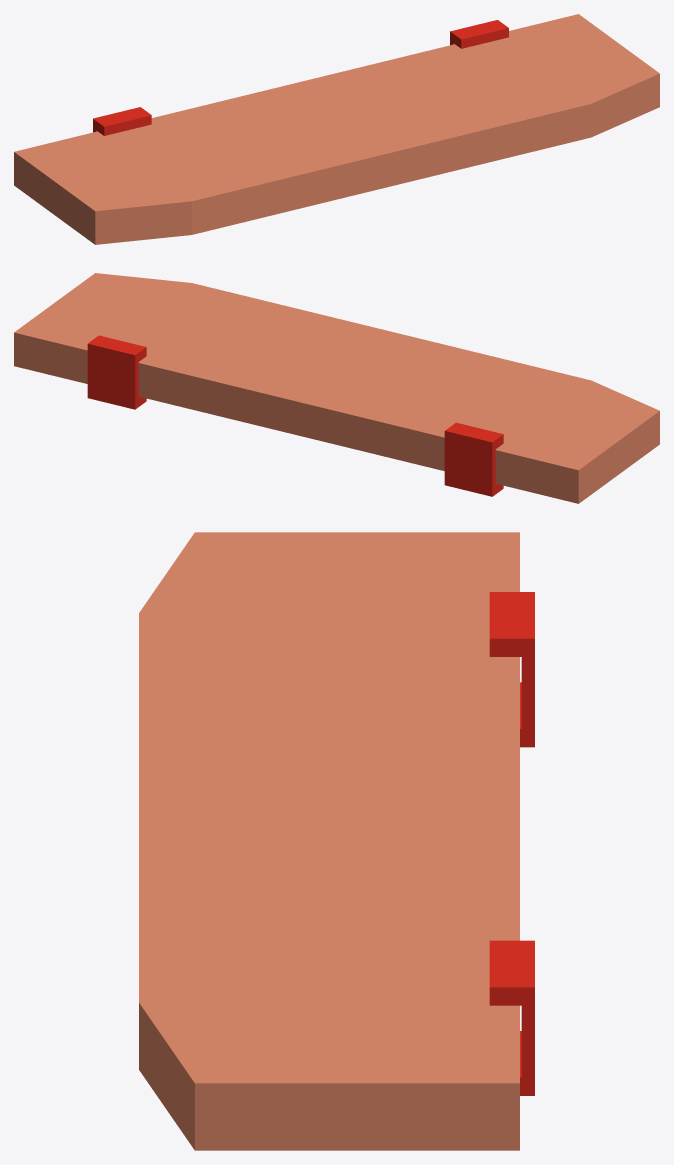
File: Slab.fbx
3 views of the same model, one above another, from view 1: azimuth 30°, elevation 25°; view 2: azimuth 150°, elevation 25°; view 3: azimuth 270°, elevation 25° (orthographic). The views are drawn at different scales.
Parts seen in each view (by area): view 1: Cube.002; view 2: Cube.002; view 3: Cube.002.
Boxes of the visible parts, x1=… form: Cube.002: x1=14, y1=14, x2=659, y2=244; Cube.002: x1=14, y1=273, x2=659, y2=503; Cube.002: x1=139, y1=532, x2=534, y2=1150.
Bounding box in the file's own units: 33.59 × 10.19 × 111.
